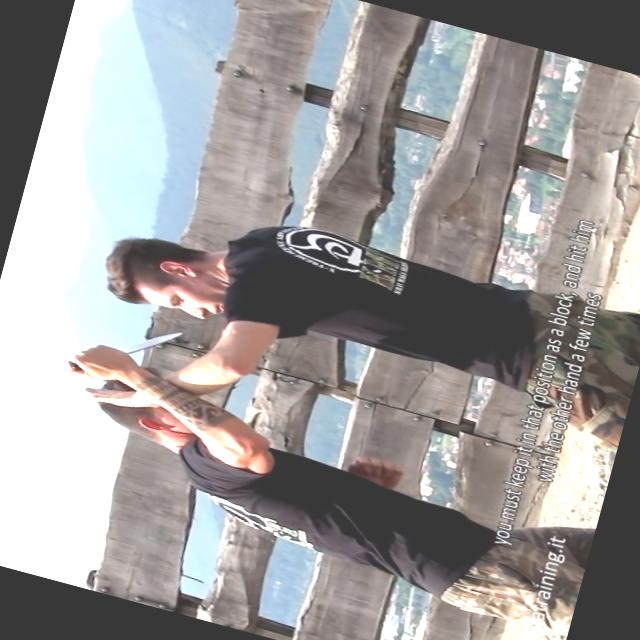knife: (58, 300, 190, 401)
